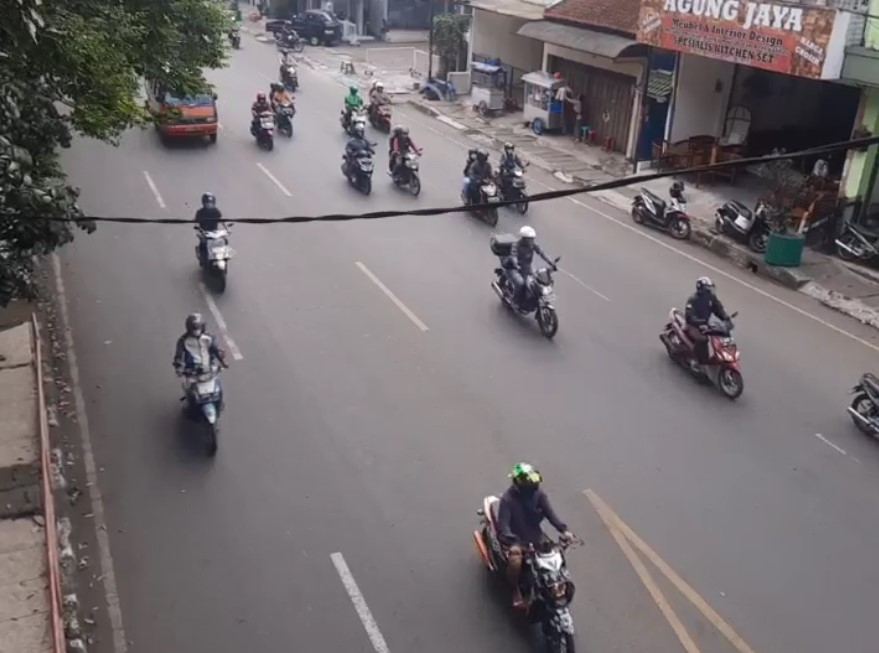motor: (469, 461, 597, 653), (659, 272, 750, 400), (168, 313, 236, 455), (488, 223, 563, 341), (182, 190, 239, 292), (492, 139, 536, 213), (384, 125, 426, 197), (462, 147, 499, 224), (340, 126, 378, 190), (365, 81, 399, 135), (267, 81, 300, 134), (244, 92, 274, 149), (338, 84, 368, 135)
